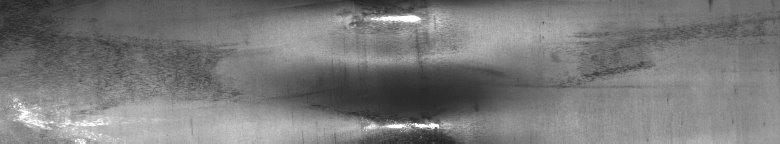ke: (340, 4, 478, 136)
